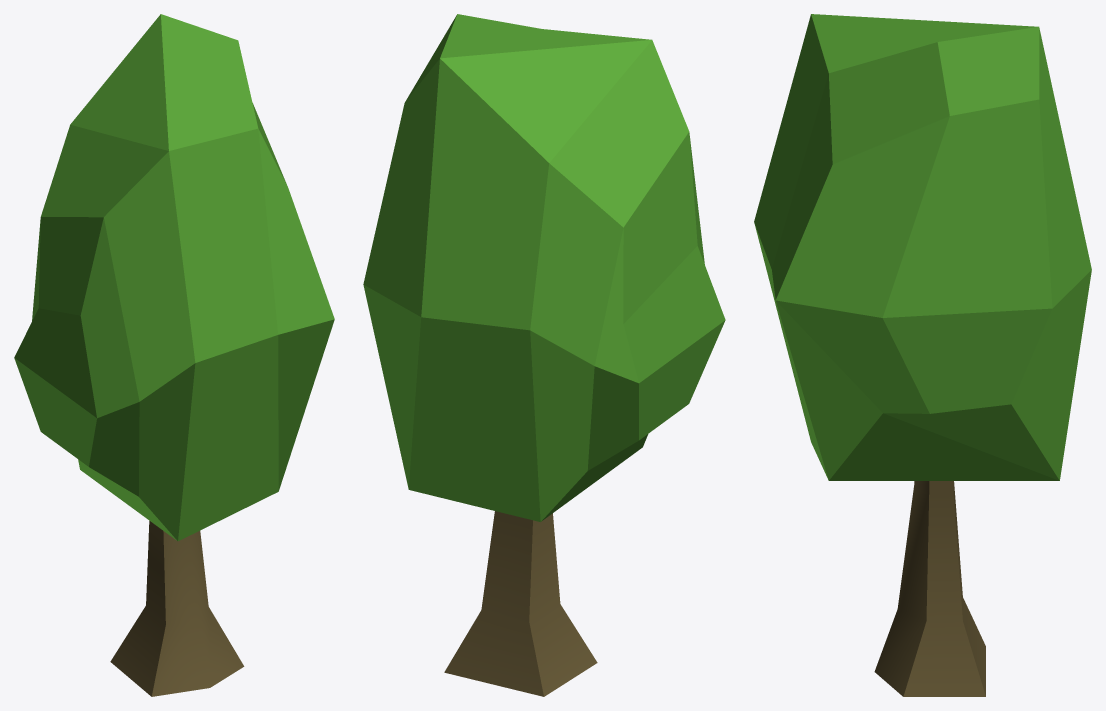
Rendered from Tree_2.fbx.
3 renders of one model, left to right at view 1: azimuth 30°, elevation 25°; view 2: azimuth 150°, elevation 25°; view 3: azimuth 270°, elevation 25°, orthographic. The views are drawn at different scales.
Visible parts, largest first — view 1: polySurface9; view 2: polySurface9; view 3: polySurface9.
Boxes of the visible parts, <box> form: polySurface9: <box>14,14,334,696</box>; polySurface9: <box>363,14,725,696</box>; polySurface9: <box>754,14,1091,696</box>.
Size of the model in its own units: 8.18 by 18.84 by 8.74.
